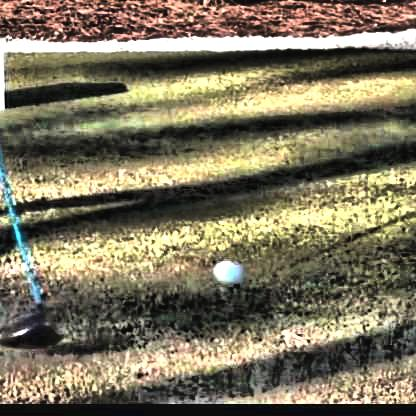golfball: (206, 257, 238, 282)
